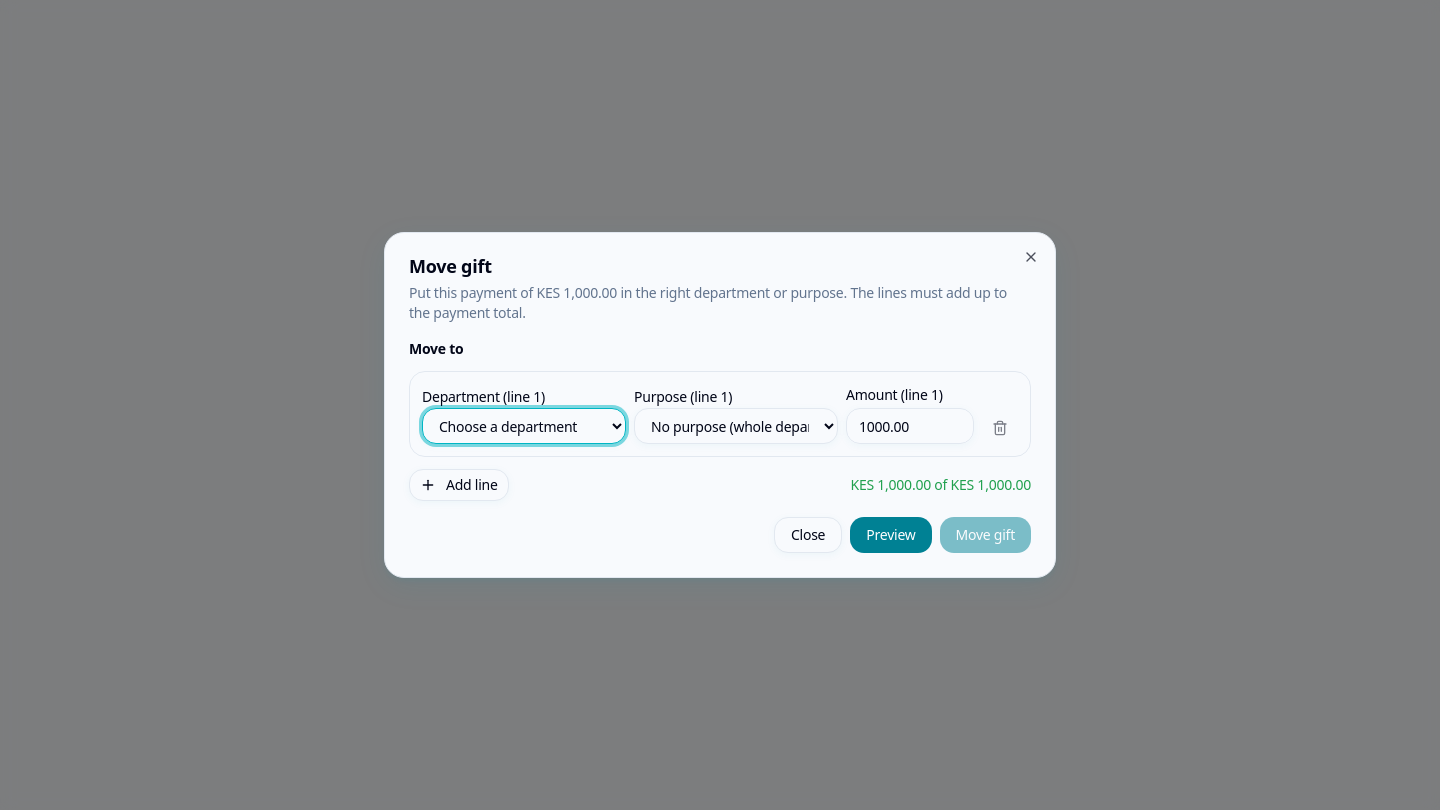
Test: MoveGiftDialog › keeps a running total and blocks preview when it does not match
Replace the text in the field labelled "Amount (line 1)" with "600" at (910, 426), box top-left (846, 408), bottom-right (974, 444)
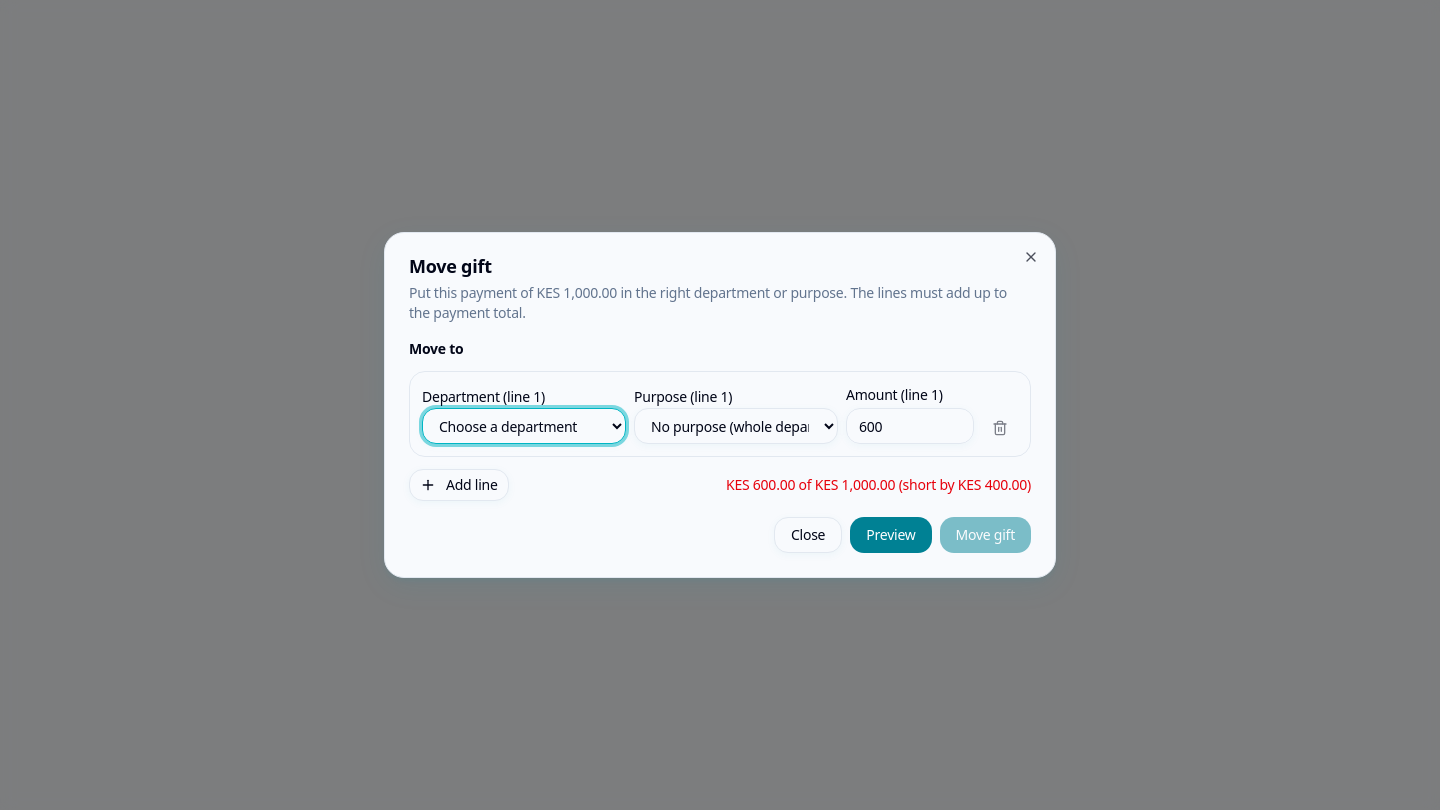
Result: the text with test id "move-gift-total" reads "KES 600.00 of KES 1,000.00 (short by KES 400.00)" at top-left (726, 475), bottom-right (1031, 495)
Click the button "Add line" at (459, 485), box top-left (409, 469), bottom-right (509, 501)
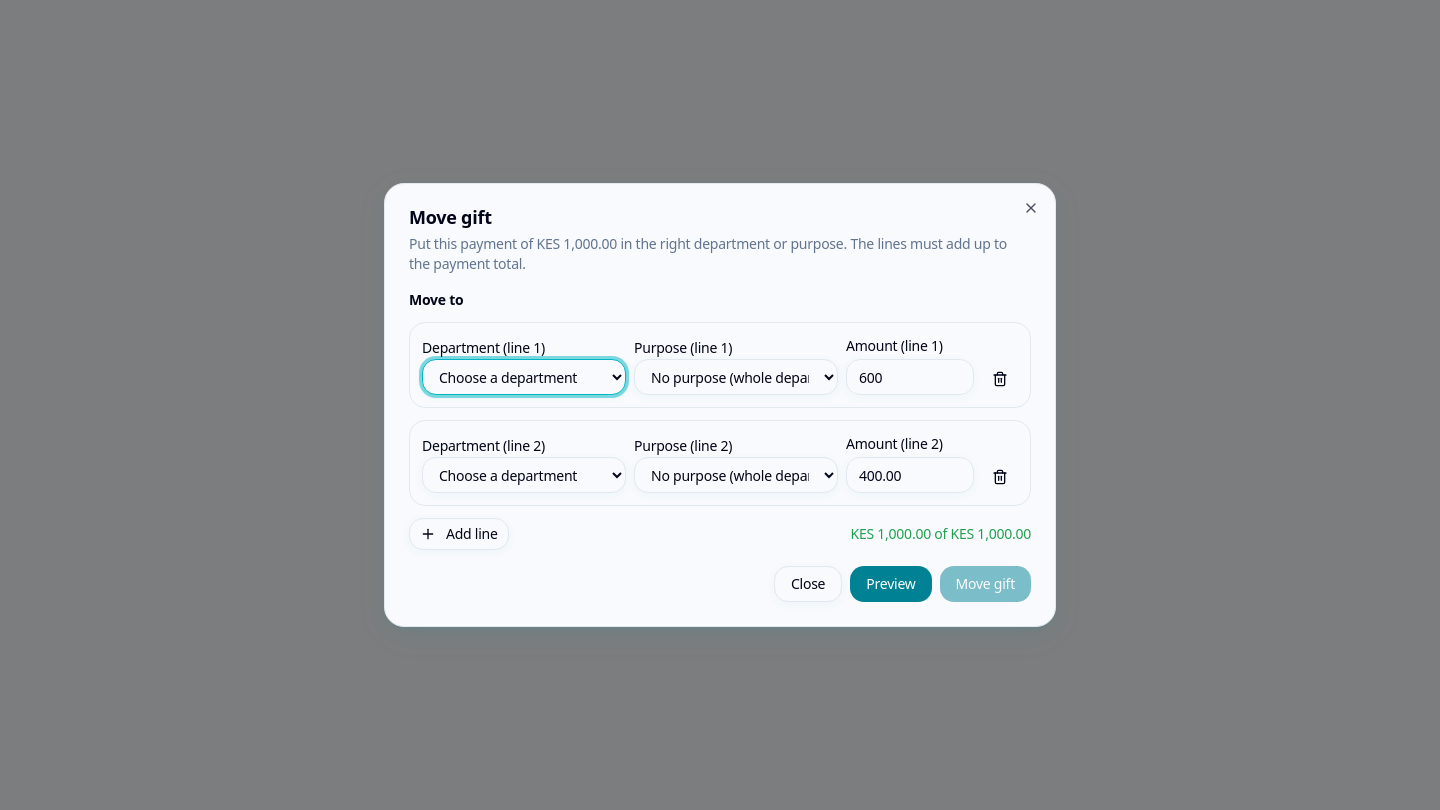
Result: the field labelled "Amount (line 2)" holds "400.00"
Replace the text in the field labelled "Amount (line 2)" with "500" at (910, 475), box top-left (846, 457), bottom-right (974, 493)
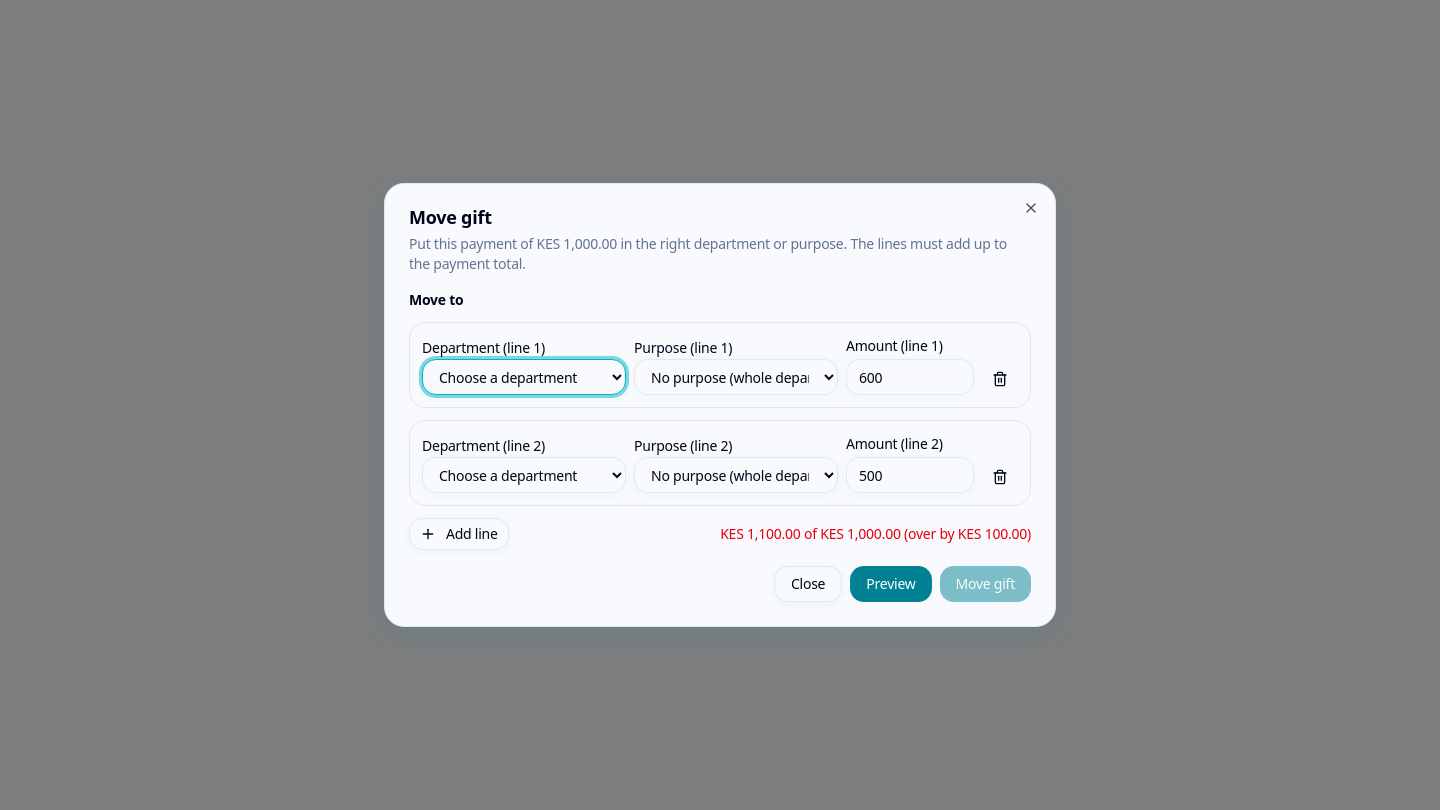
Result: the text with test id "move-gift-total" shows "(over by KES 100.00)" at top-left (901, 524), bottom-right (1031, 543)
Click the button "Preview" at (891, 584), box top-left (850, 566), bottom-right (932, 602)
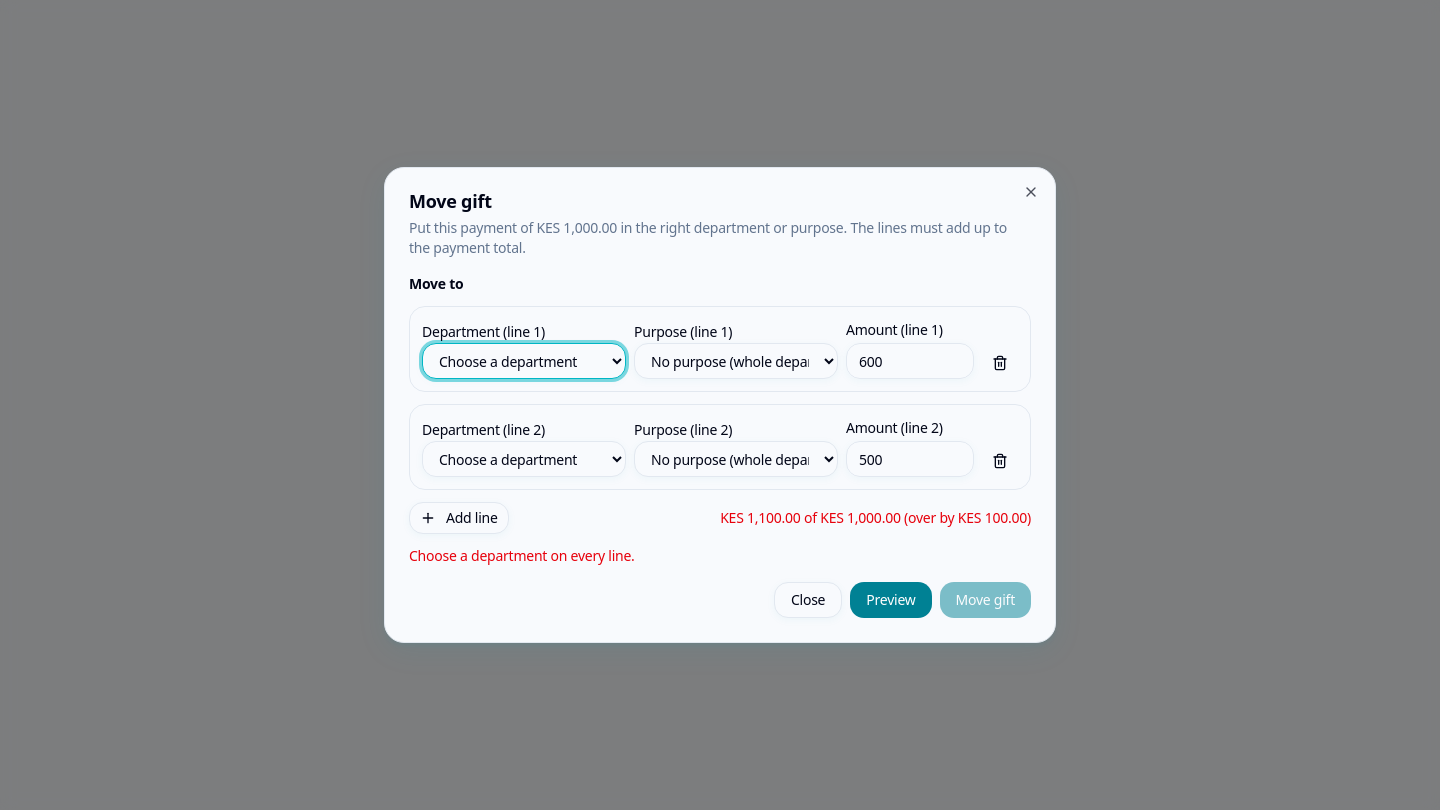
Result: the message reads "Choose a department on every line." at top-left (409, 546), bottom-right (635, 565)
Click the button named "Remove line 2" at (1000, 461), box top-left (982, 445), bottom-right (1018, 477)
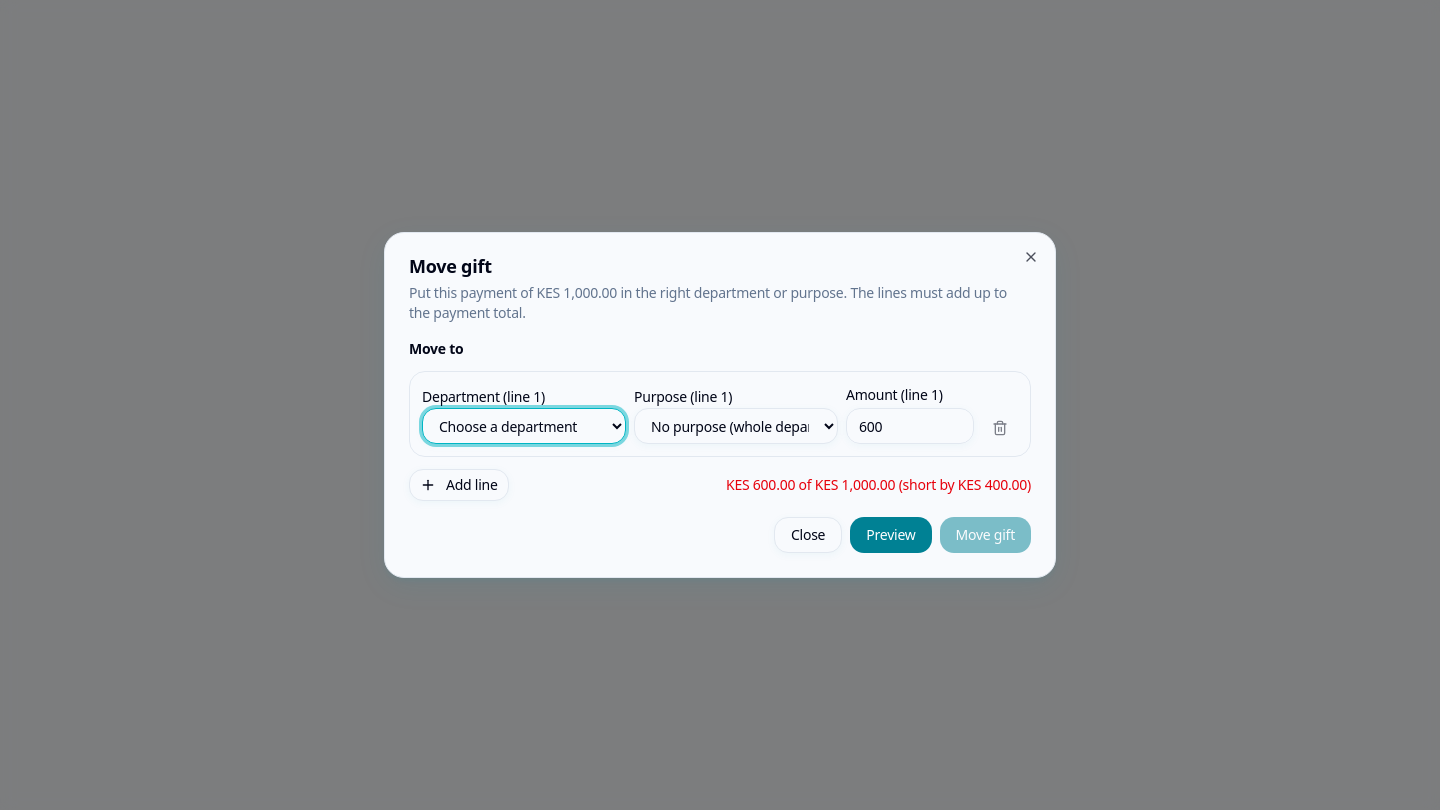
Result: the number of elements with test id "move-gift-row" is 1 at top-left (409, 371), bottom-right (1031, 457)
Result: the button named "Remove line 1" is disabled at top-left (982, 412), bottom-right (1018, 444)
Click the button "Preview" at (891, 535), box top-left (850, 517), bottom-right (932, 553)
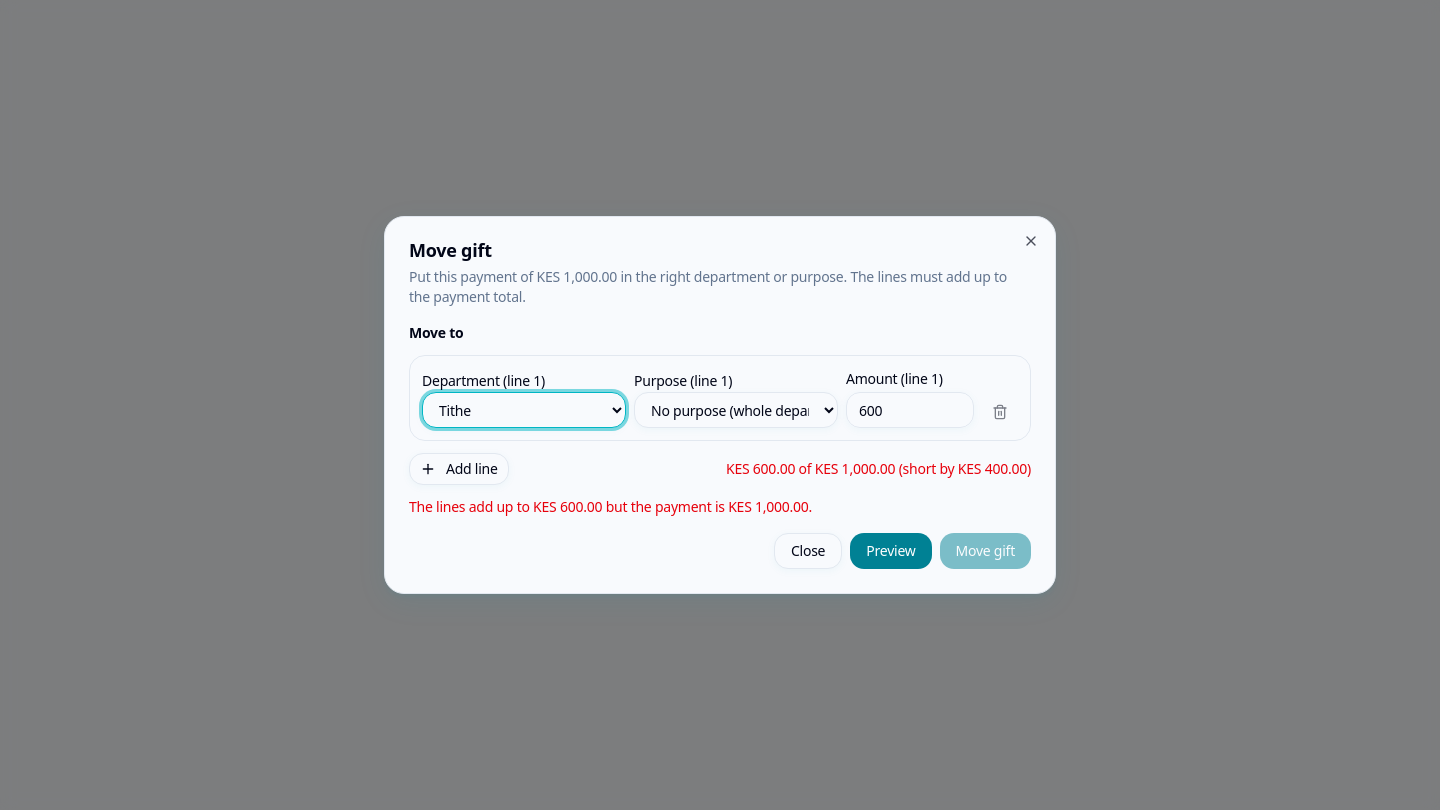
Expected: the button "Move gift" is disabled, top-left (940, 533), bottom-right (1031, 569)
Result: the message reads "The lines add up to KES 600.00 but the payment is KES 1,000.00." at top-left (409, 497), bottom-right (812, 516)
